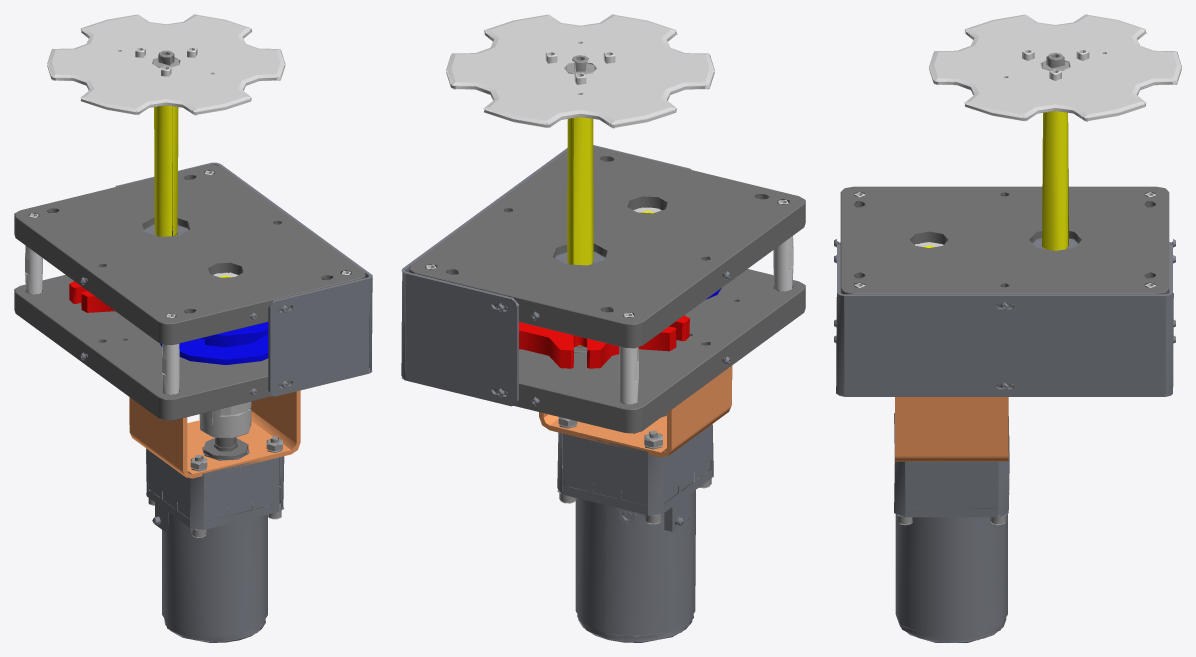
The model's file is GenevaDisk.fbx.
3 renders of one model, left to right at view 1: azimuth 30°, elevation 25°; view 2: azimuth 150°, elevation 25°; view 3: azimuth 270°, elevation 25°, orthographic. The views are drawn at different scales.
Parts seen in each view (by area): view 1: geneva_disk_system; view 2: geneva_disk_system; view 3: geneva_disk_system.
Part boxes in pixels (left/top/right/bottom): geneva_disk_system: left=14, top=14, right=372, bottom=642; geneva_disk_system: left=401, top=14, right=805, bottom=642; geneva_disk_system: left=834, top=14, right=1181, bottom=642.
Size of the model in its own units: 0.2105 by 0.2752 by 0.4943.
